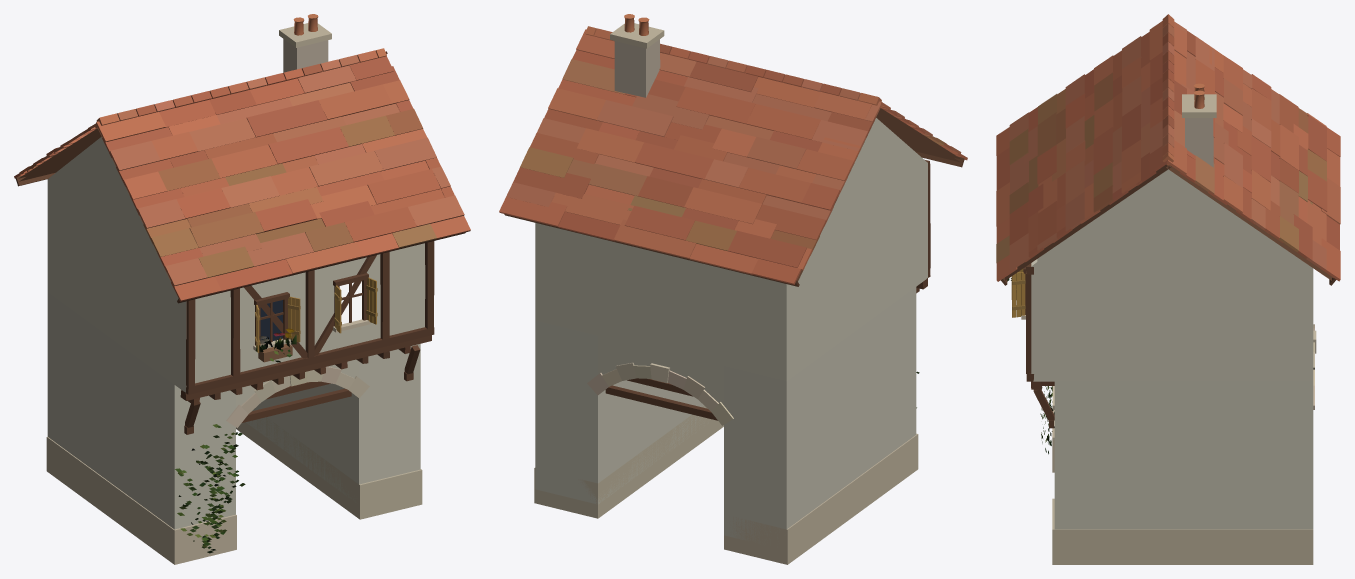
The model's file is paso_bajo_casa.glb.
3 views of the same model, side by side, from view 1: azimuth 30°, elevation 25°; view 2: azimuth 150°, elevation 25°; view 3: azimuth 270°, elevation 25° (orthographic). The views are drawn at different scales.
Parts seen in each view (by area): view 1: paso_bajo_casa_fijo, paso_bajo_casa_vegetacion; view 2: paso_bajo_casa_fijo; view 3: paso_bajo_casa_fijo.
Boxes of the visible parts, x1,y1,x2,y2 form: paso_bajo_casa_fijo: (14, 14, 470, 564); paso_bajo_casa_vegetacion: (175, 328, 296, 553); paso_bajo_casa_fijo: (499, 14, 967, 564); paso_bajo_casa_fijo: (996, 14, 1340, 564).
Size of the model in its own units: 6.6 by 9.67 by 6.66.
